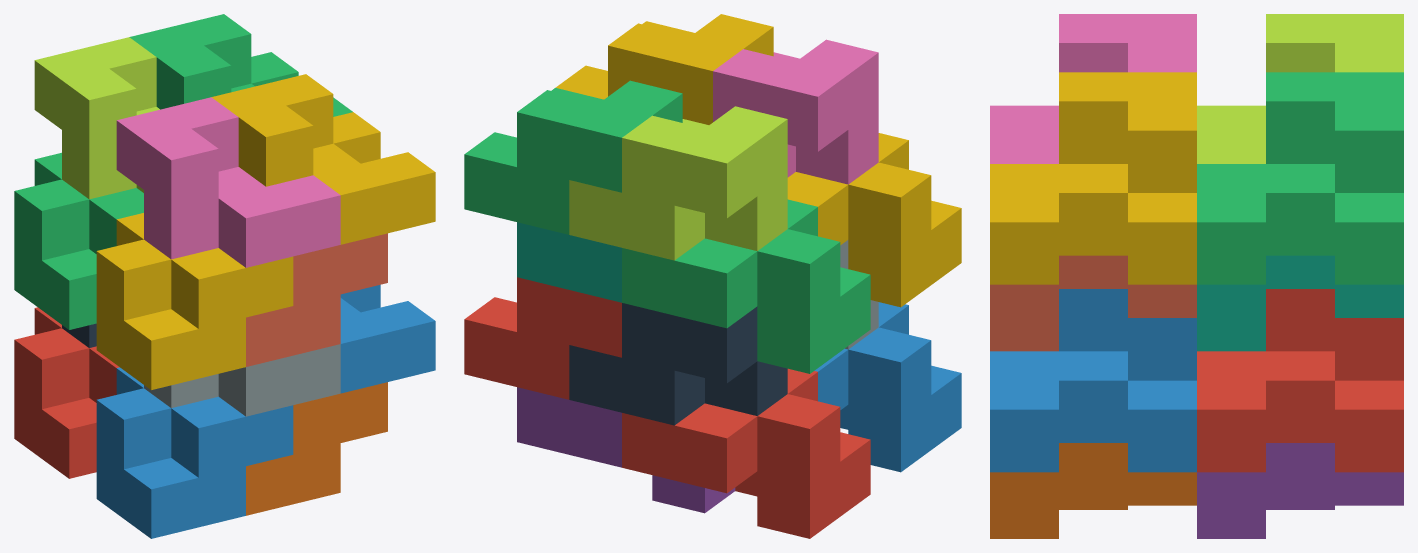
Rendered from tiling.obj.
3 views of the same model, side by side, from view 1: azimuth 30°, elevation 25°; view 2: azimuth 150°, elevation 25°; view 3: azimuth 270°, elevation 25° (orthographic). The views are drawn at different scales.
Visible parts, largest first — view 1: copy_2_domain_4, copy_1_domain_4, copy_1_domain_2, copy_2_domain_8, copy_1_domain_3, copy_2_domain_3, copy_1_domain_1, copy_1_domain_6, copy_1_domain_8, copy_2_domain_7, copy_2_domain_6, copy_2_domain_2; view 2: copy_2_domain_3, copy_1_domain_1, copy_1_domain_3, copy_2_domain_7, copy_2_domain_1, copy_2_domain_4, copy_1_domain_4, copy_1_domain_2, copy_2_domain_5, copy_2_domain_8, copy_1_domain_5, copy_1_domain_7 (+1 smaller); view 3: copy_2_domain_7, copy_2_domain_8, copy_2_domain_5, copy_2_domain_6, copy_2_domain_3, copy_2_domain_4, copy_1_domain_5, copy_1_domain_6, copy_1_domain_7, copy_1_domain_8.
Part boxes in pixels (box(x1,y1,x2,y2)): copy_2_domain_4: box(116, 97, 340, 267); copy_1_domain_4: box(96, 213, 293, 390); copy_1_domain_2: box(96, 367, 293, 538); copy_2_domain_8: box(211, 74, 435, 244); copy_1_domain_3: box(14, 152, 143, 329); copy_2_domain_3: box(34, 37, 159, 199); copy_1_domain_1: box(14, 307, 119, 478); copy_1_domain_6: box(246, 382, 387, 515); copy_1_domain_8: box(246, 233, 387, 366); copy_2_domain_7: box(129, 14, 352, 116); copy_2_domain_6: box(340, 284, 435, 393); copy_2_domain_2: box(144, 344, 340, 416); copy_2_domain_3: box(569, 106, 787, 260); copy_1_domain_1: box(622, 368, 870, 538); copy_1_domain_3: box(622, 199, 870, 373); copy_2_domain_7: box(464, 80, 682, 234); copy_2_domain_1: box(569, 303, 787, 425); copy_2_domain_4: box(713, 39, 878, 184); copy_1_domain_4: box(787, 133, 961, 307); copy_1_domain_2: box(814, 302, 961, 472); copy_2_domain_5: box(464, 277, 621, 399); copy_2_domain_8: box(555, 14, 773, 124); copy_1_domain_5: box(517, 387, 735, 513); copy_1_domain_7: box(517, 222, 621, 302); copy_2_domain_7: box(1197, 72, 1403, 284); copy_2_domain_8: box(990, 72, 1196, 284); copy_2_domain_5: box(1197, 289, 1403, 472); copy_2_domain_6: box(990, 289, 1196, 472); copy_2_domain_3: box(1197, 14, 1403, 163); copy_2_domain_4: box(990, 14, 1196, 163); copy_1_domain_5: box(1197, 443, 1403, 538); copy_1_domain_6: box(990, 443, 1196, 538); copy_1_domain_7: box(1197, 255, 1403, 351); copy_1_domain_8: box(990, 255, 1196, 351).
Size of the model in its own units: 6 by 7 by 6.
